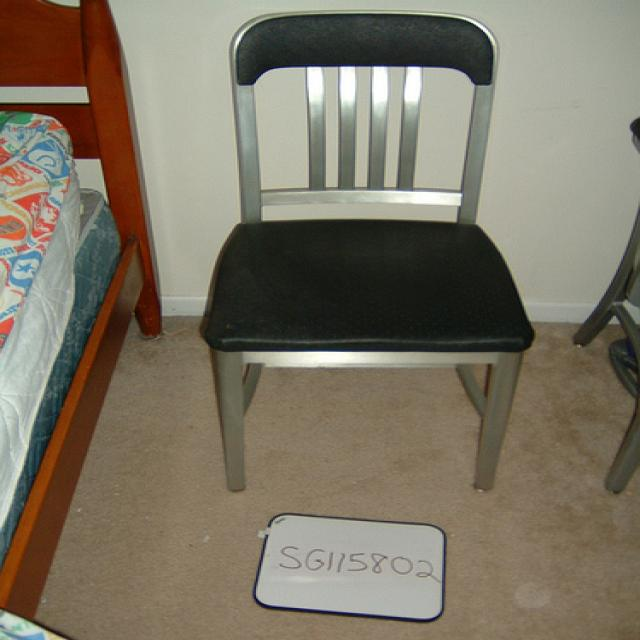chair: (197, 8, 536, 540)
